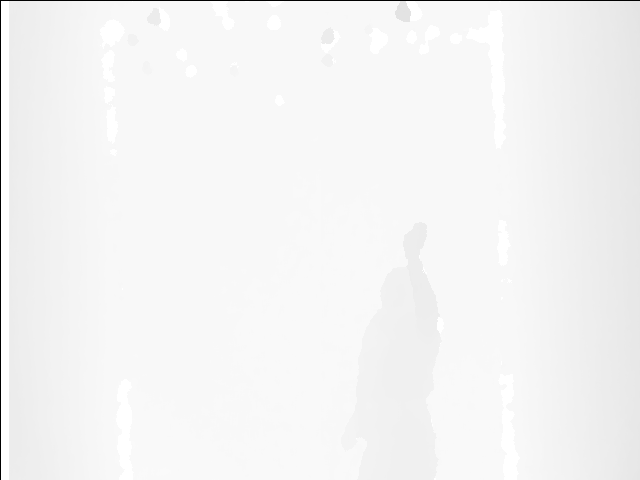hand: (401, 220, 429, 260)
